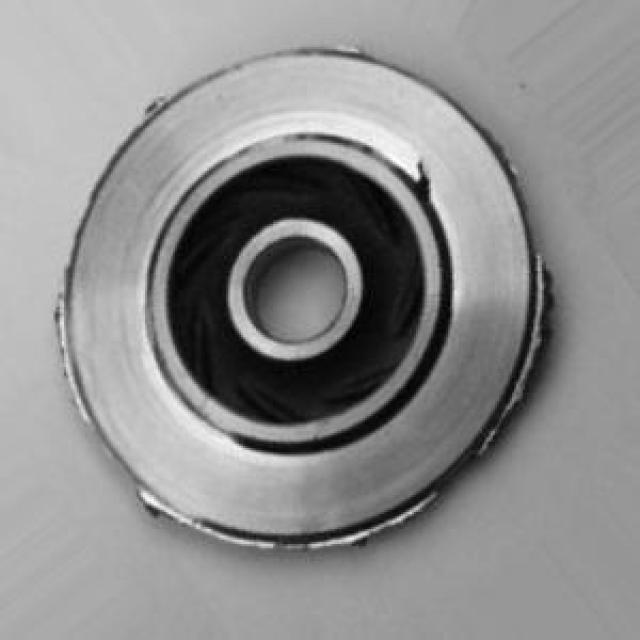Defect: (401, 149, 438, 209)
